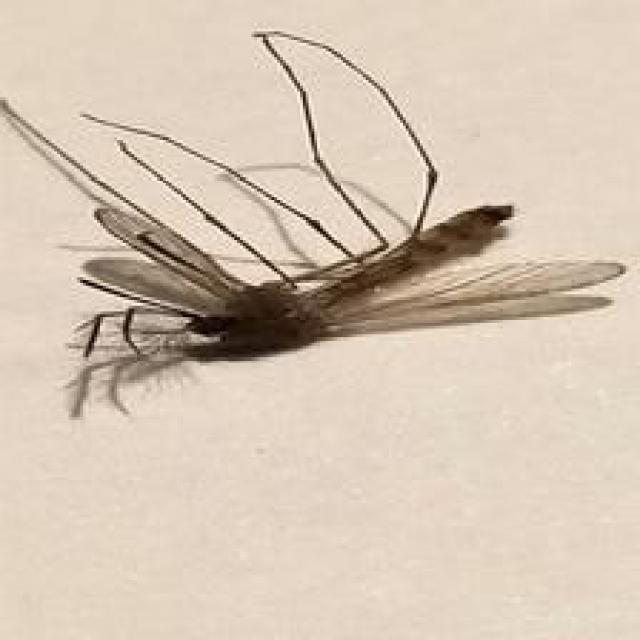Culex: (0, 27, 629, 422)
